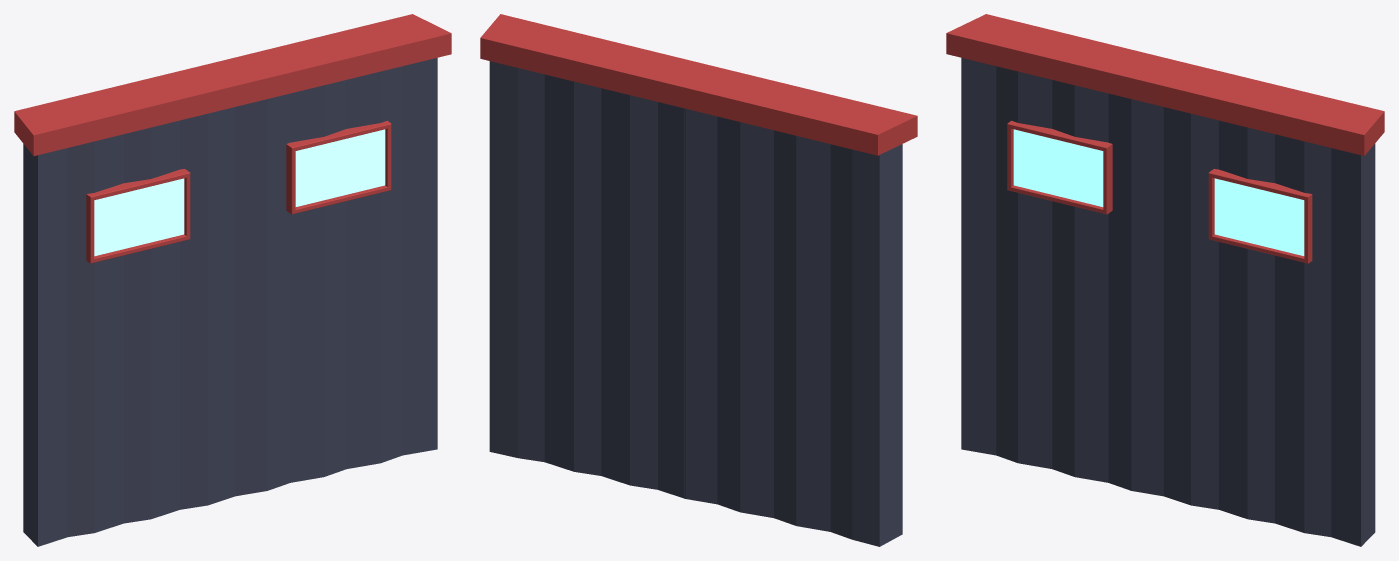
The model's file is warehousewall.fbx.
The picture shows the model from 3 angles, left to right: view 1: azimuth 30°, elevation 25°; view 2: azimuth 150°, elevation 25°; view 3: azimuth 330°, elevation 25°; orthographic projection.
Visible parts, largest first — view 1: WarehouseSmallWall; view 2: WarehouseSmallWall; view 3: WarehouseSmallWall.
Part boxes in pixels (bbox=[...]): WarehouseSmallWall: bbox=[14, 14, 451, 546]; WarehouseSmallWall: bbox=[480, 14, 917, 546]; WarehouseSmallWall: bbox=[946, 14, 1384, 546].
Size of the model in its own units: 209 by 200 by 25.7.
